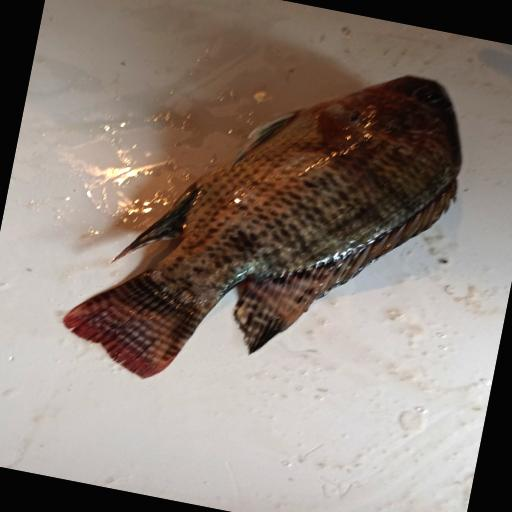Tilapia: (53, 18, 478, 431)
